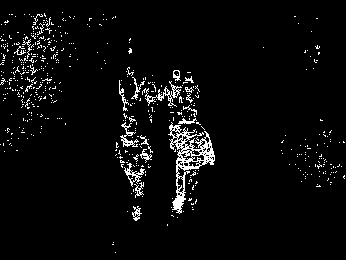person: (172, 107, 214, 220), (114, 116, 150, 220), (119, 64, 140, 114), (166, 65, 185, 106), (190, 68, 207, 107)
